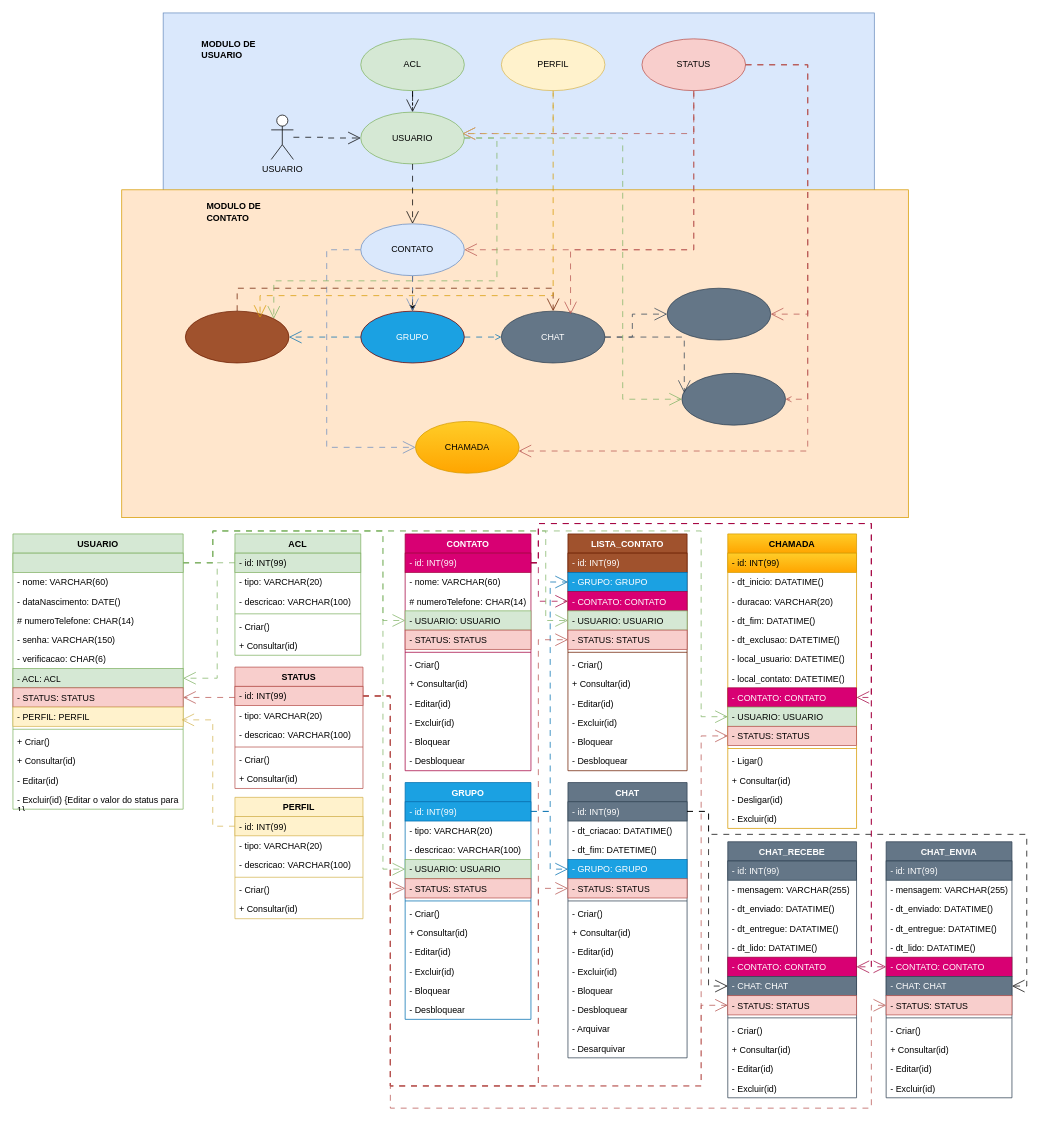
This 1052x1134 diagram has some shape labels left out. Here are the shapes that lost their labels. From the top down, the centre of each, then its label:
At [718,313]: "RECEBE".
At [237,336]: "LISTA CONTATO".
At [733,399]: "ENVIA".
At [97,562]: "- id: INT(10)".
